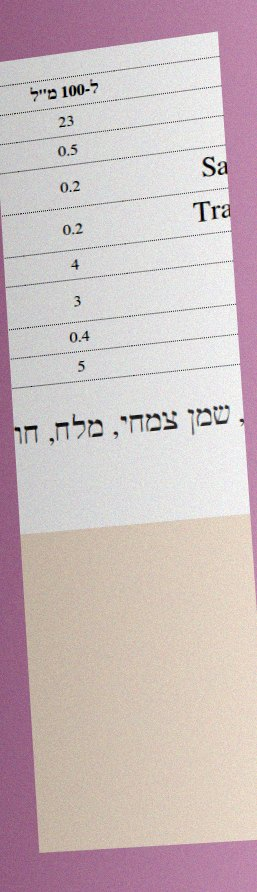carbs: (68, 254, 82, 275)
energy: (55, 110, 77, 133)
fat: (55, 139, 81, 162)
protein: (67, 325, 92, 348)
